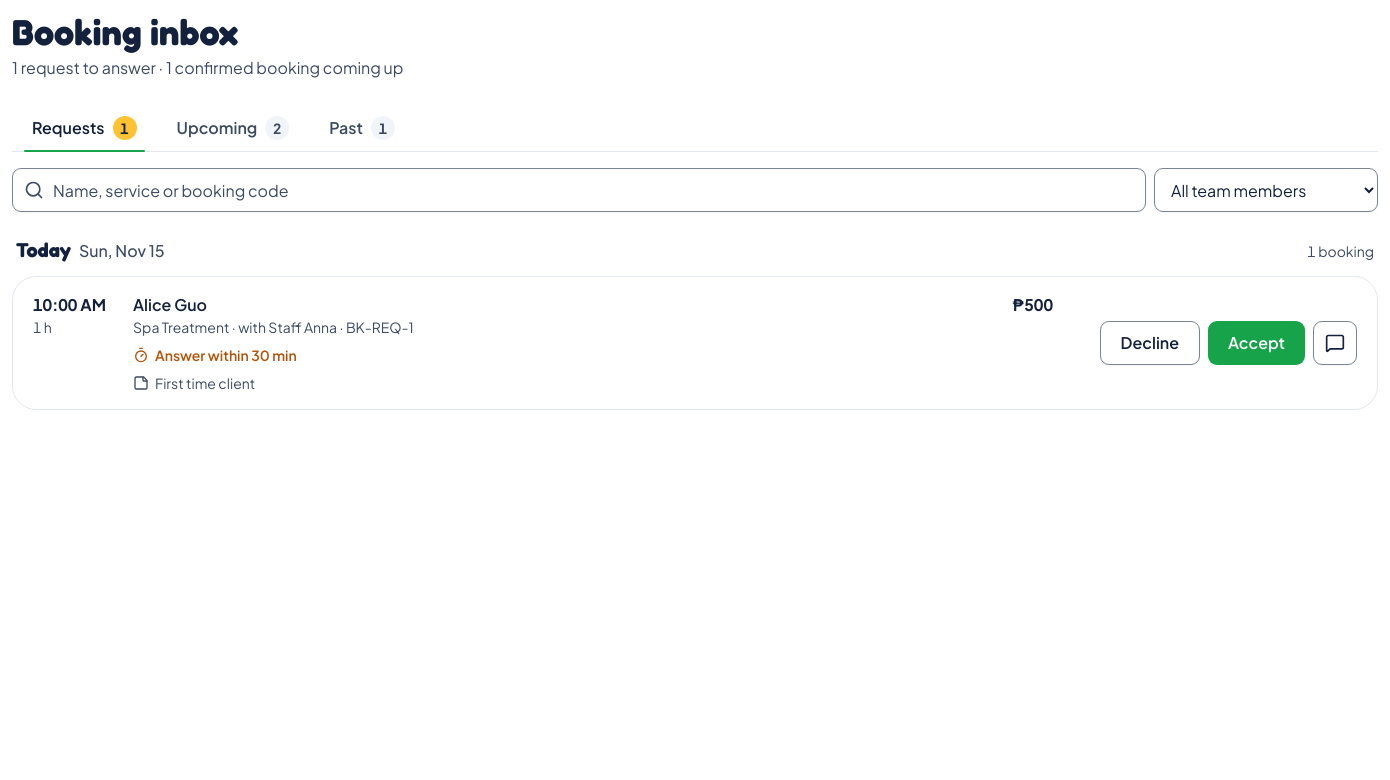
Scenario: BookingInbox › finds a booking by its code and filters by team member
This screenshot has width=1390, height=780.
Click the tab "Upcoming 2": (233, 128) [157,104,309,152]
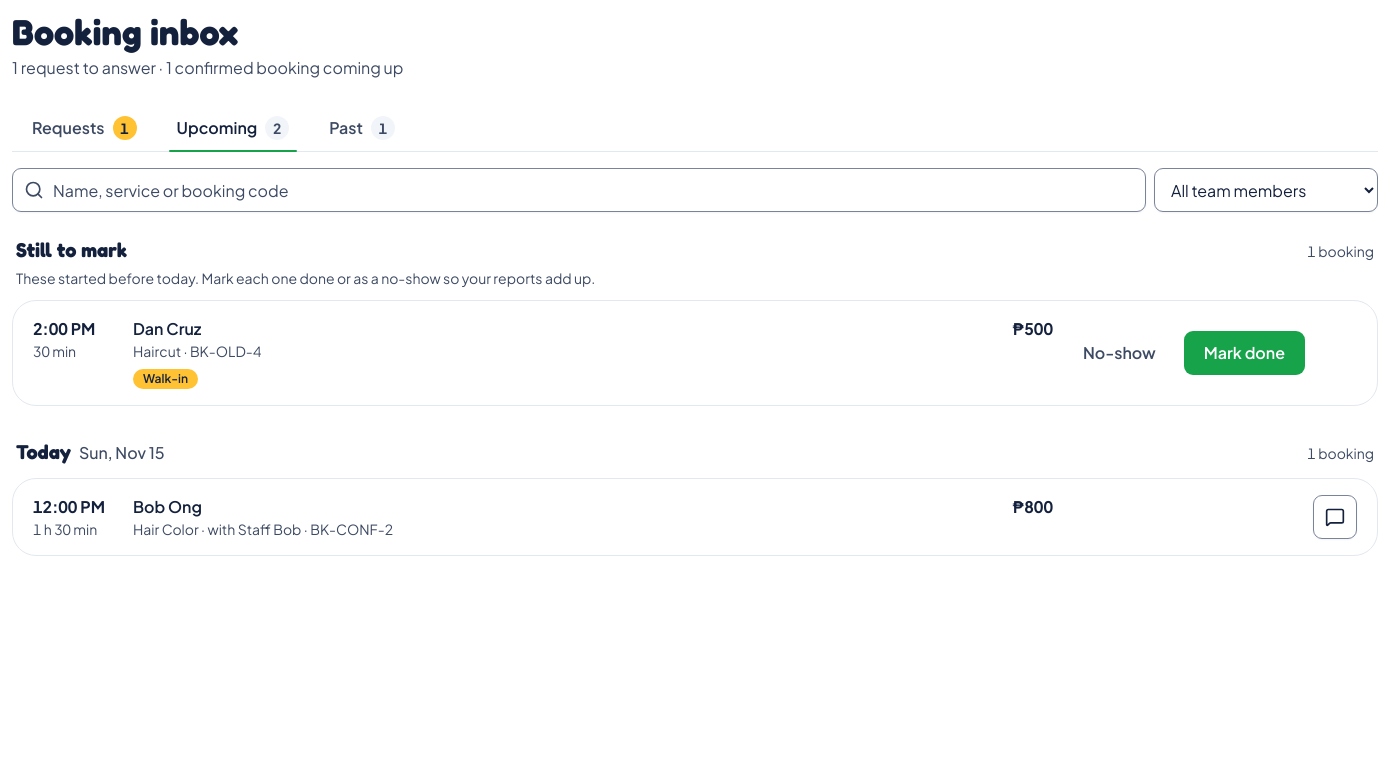
Select "Not assigned yet" in the dropdown named "Team member": (1266, 190) [1154,168,1378,212]
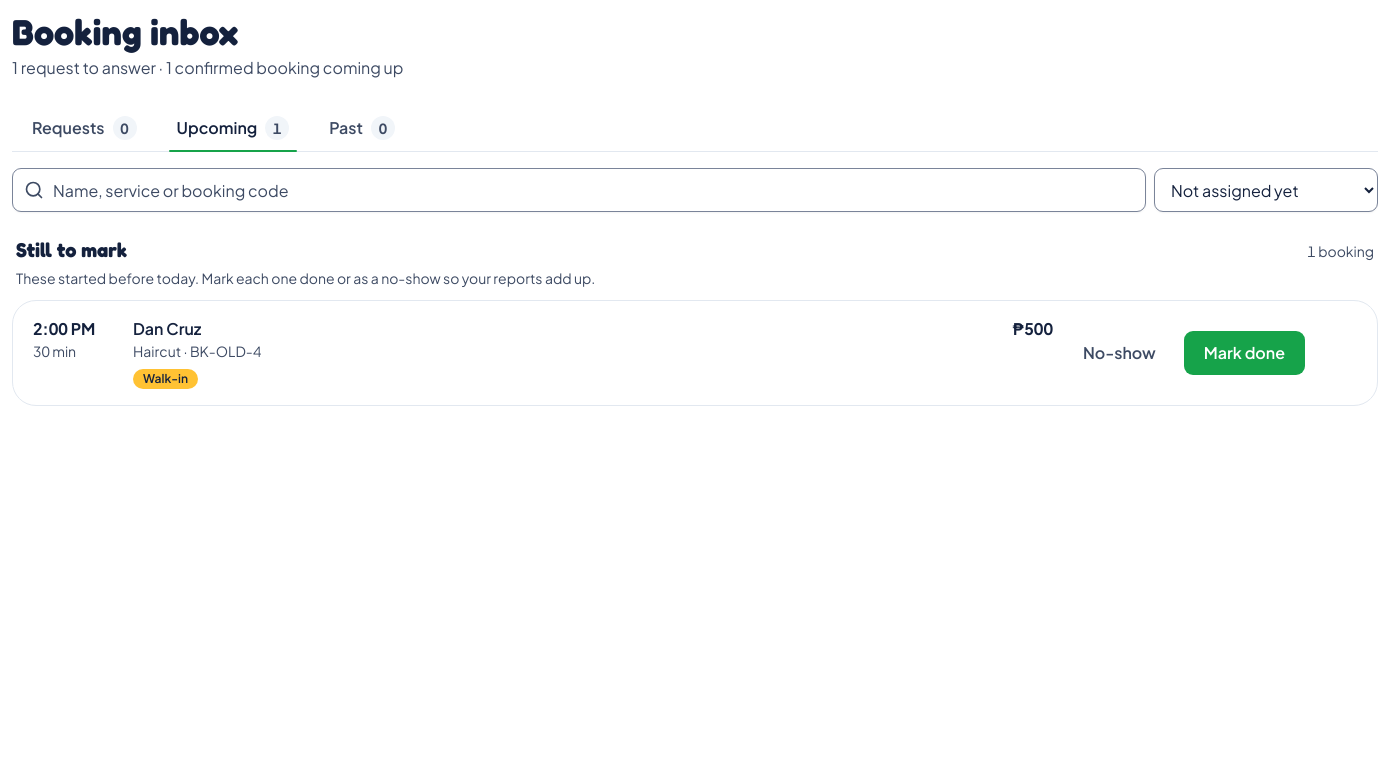
expect the text "Dan Cruz" is shown: met, box [133,317,201,341]
expect the button "Bob Ong" is gone: met
Select "All team members" in the dropdown named "Team member": (1266, 190) [1154,168,1378,212]
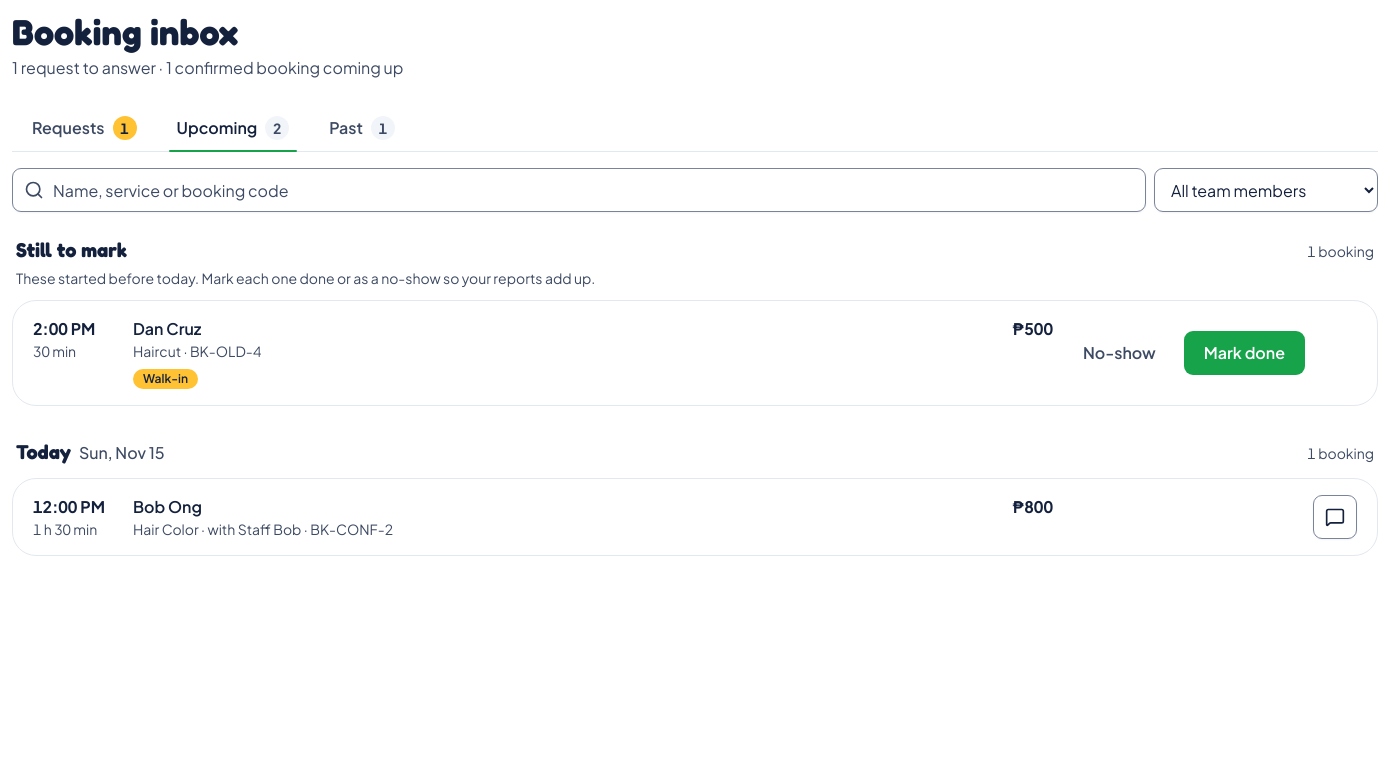
In the search field named "Search bookings": (579, 190) [12,168,1146,212], type "bk-conf"
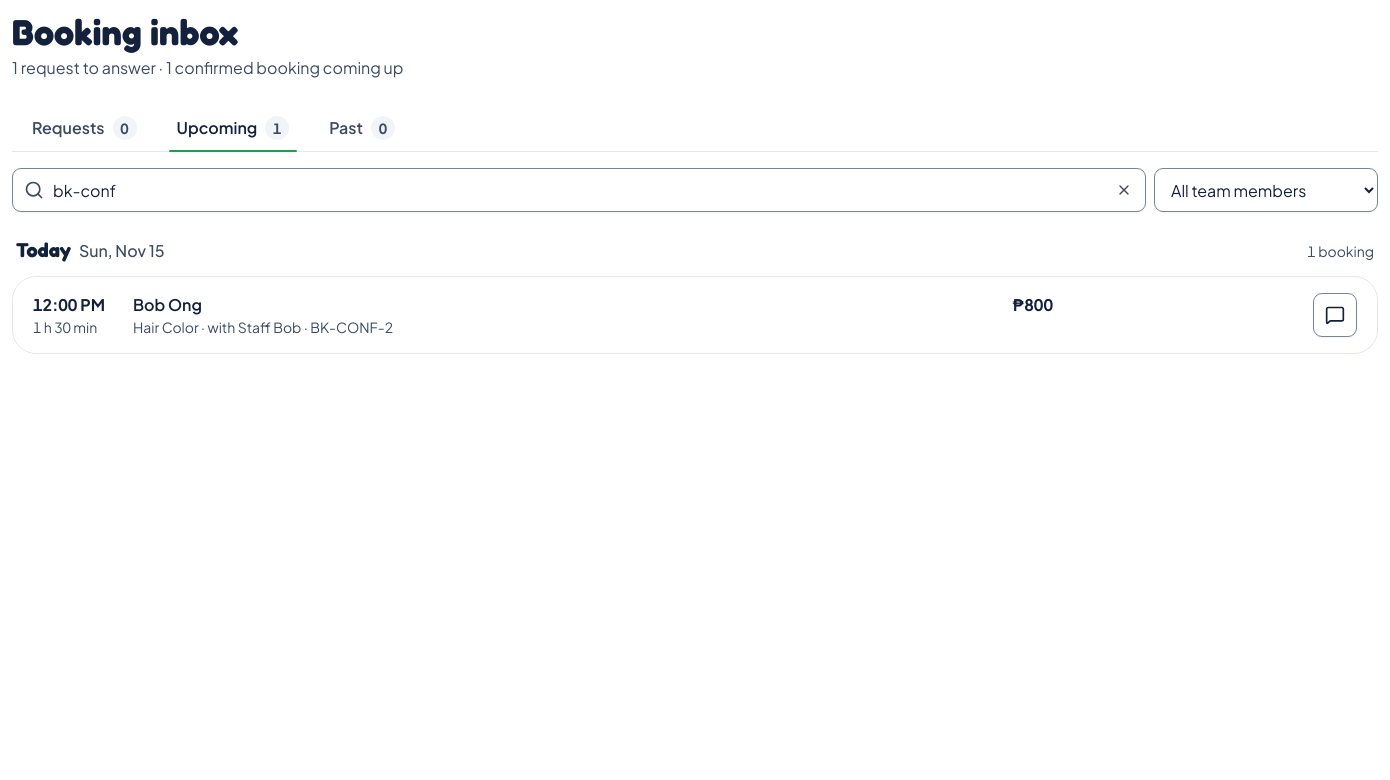
expect the text "Bob Ong" is shown: met, box [133,293,202,317]
expect the button "Dan Cruz" is gone: met
